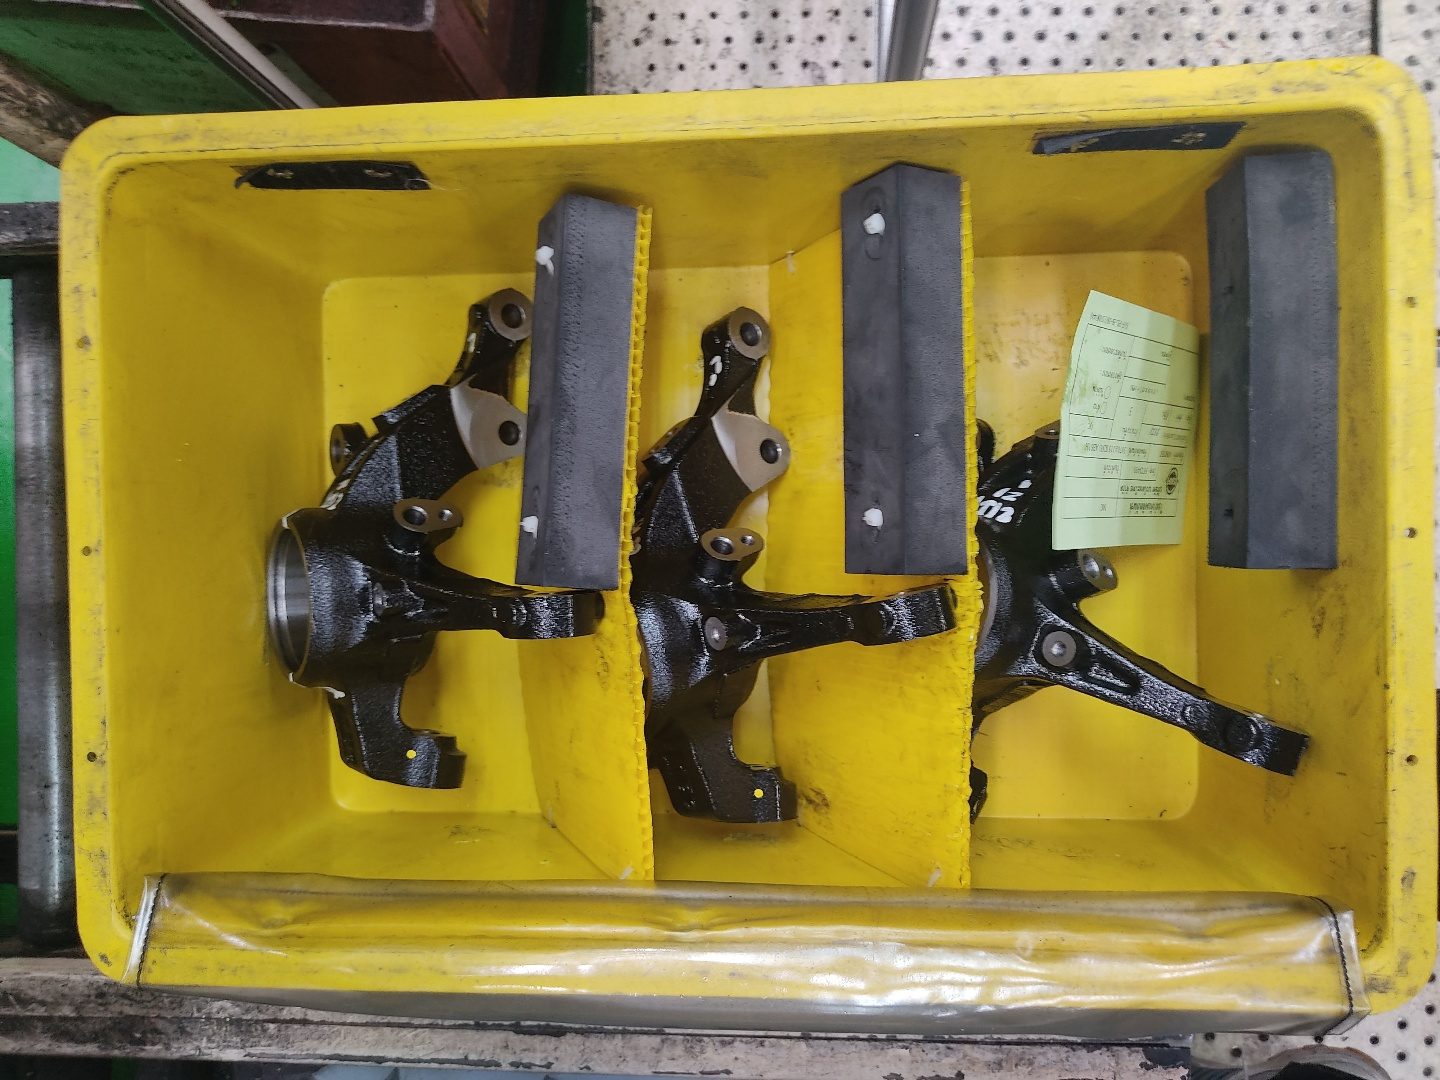abs-lh: (960, 299, 1318, 838), (257, 278, 617, 799), (629, 295, 962, 836)
